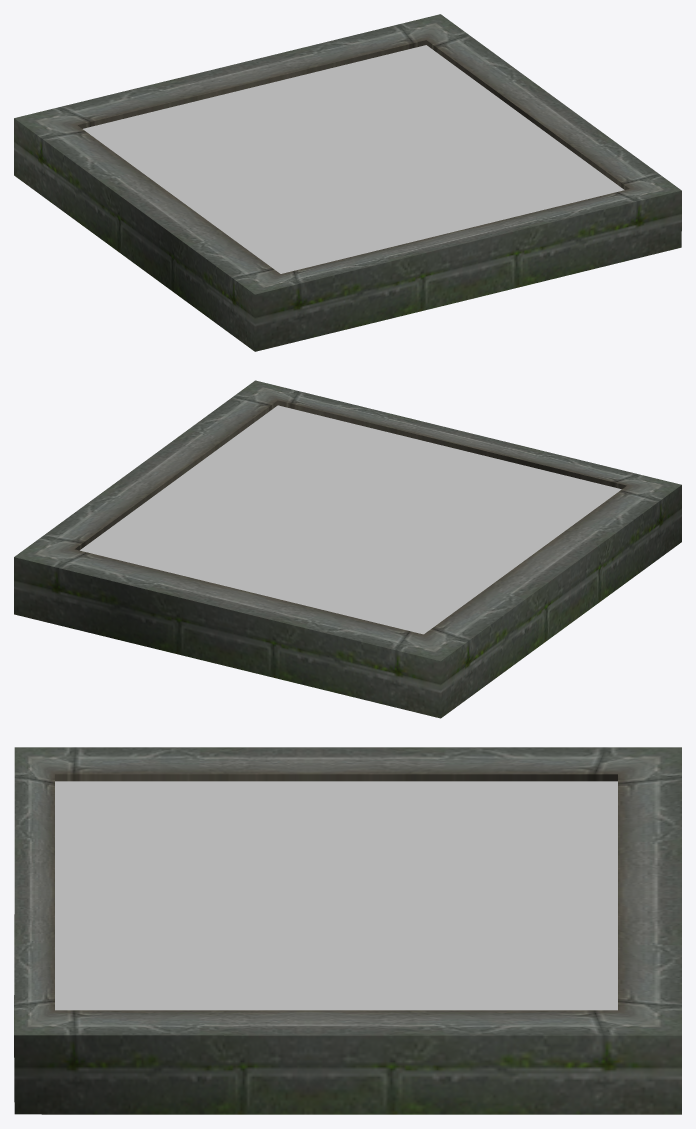
File: zc_suzhou_huatan01.FBX
3 views of the same model, one above another, from view 1: azimuth 30°, elevation 25°; view 2: azimuth 150°, elevation 25°; view 3: azimuth 270°, elevation 25° (orthographic). The views are drawn at different scales.
Parts seen in each view (by area): view 1: zc_suzhou_huatan01; view 2: zc_suzhou_huatan01; view 3: zc_suzhou_huatan01.
Boxes of the visible parts, bbox=[...] form: zc_suzhou_huatan01: bbox=[14, 14, 681, 351]; zc_suzhou_huatan01: bbox=[14, 380, 681, 718]; zc_suzhou_huatan01: bbox=[14, 747, 681, 1114].
Size of the model in its own units: 441 by 56.53 by 431.
